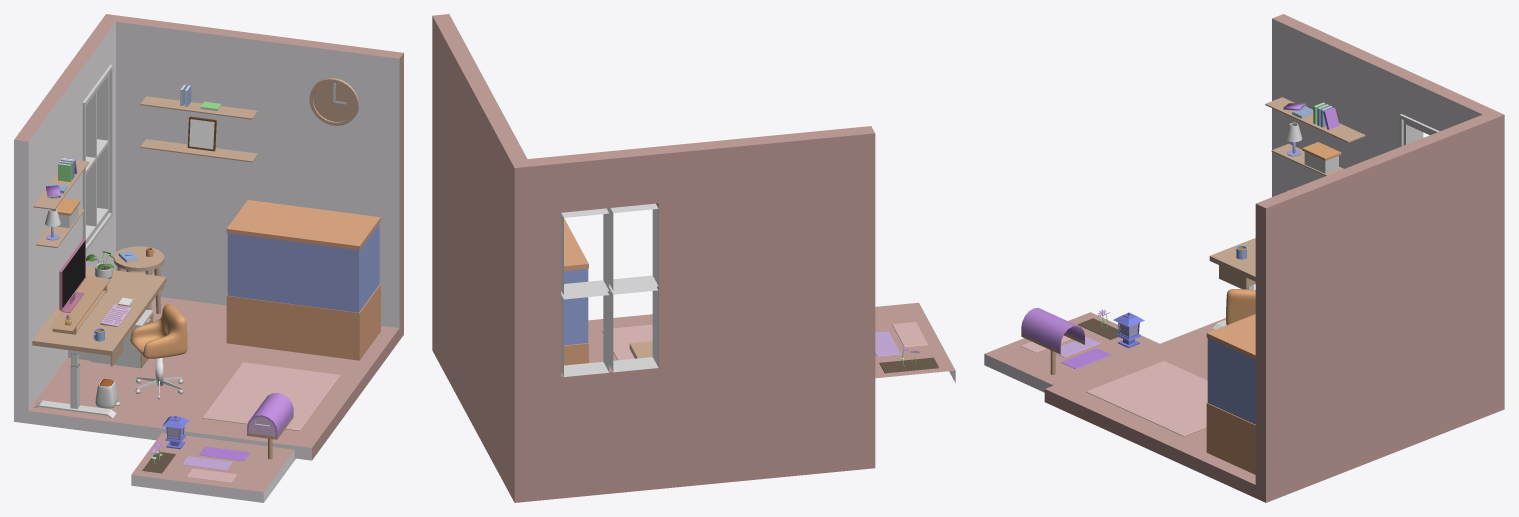
Rendered from Boko_example3.glb.
The picture shows the model from 3 angles, left to right: view 1: azimuth 30°, elevation 25°; view 2: azimuth 150°, elevation 25°; view 3: azimuth 270°, elevation 25°; orthographic projection. The views are drawn at different scales.
Parts seen in each view (by area): view 1: Body, Aquarium, Desks, Floor Items, Mini Floor, Shelves, Table Stuff, Chair, Clock, Mailbox, Computer, Lamp (+4 smaller); view 2: Body, Mini Floor, Aquarium, Floor Items, Dirt, FloorThird; view 3: Body, Aquarium, Floor Items, Mini Floor, Shelves, Mailbox, Desks, Chair, Lamp.
Part boxes in pixels (bbox=[...]): Body: bbox=[14, 14, 403, 460]; Aquarium: bbox=[226, 200, 380, 360]; Desks: bbox=[32, 246, 166, 418]; Floor Items: bbox=[90, 309, 340, 430]; Mini Floor: bbox=[131, 432, 295, 502]; Shelves: bbox=[33, 84, 257, 247]; Table Stuff: bbox=[49, 247, 154, 341]; Chair: bbox=[130, 304, 187, 358]; Clock: bbox=[309, 78, 358, 125]; Mailbox: bbox=[247, 393, 293, 459]; Computer: bbox=[59, 238, 85, 312]; Lamp: bbox=[162, 415, 188, 449]; Body: bbox=[432, 14, 875, 502]; Mini Floor: bbox=[875, 302, 955, 382]; Aquarium: bbox=[564, 218, 588, 365]; Floor Items: bbox=[601, 324, 652, 360]; Dirt: bbox=[879, 357, 939, 373]; FloorThird: bbox=[892, 322, 928, 347]; Body: bbox=[1044, 14, 1504, 502]; Aquarium: bbox=[1206, 314, 1255, 474]; Floor Items: bbox=[1086, 361, 1207, 436]; Mini Floor: bbox=[984, 312, 1159, 392]; Shelves: bbox=[1265, 97, 1365, 175]; Mailbox: bbox=[1021, 308, 1084, 374]; Desks: bbox=[1209, 238, 1255, 329]; Chair: bbox=[1226, 289, 1255, 325]; Lamp: bbox=[1113, 312, 1144, 347].
Size of the model in its own units: 27.58 by 19.65 by 31.21.
